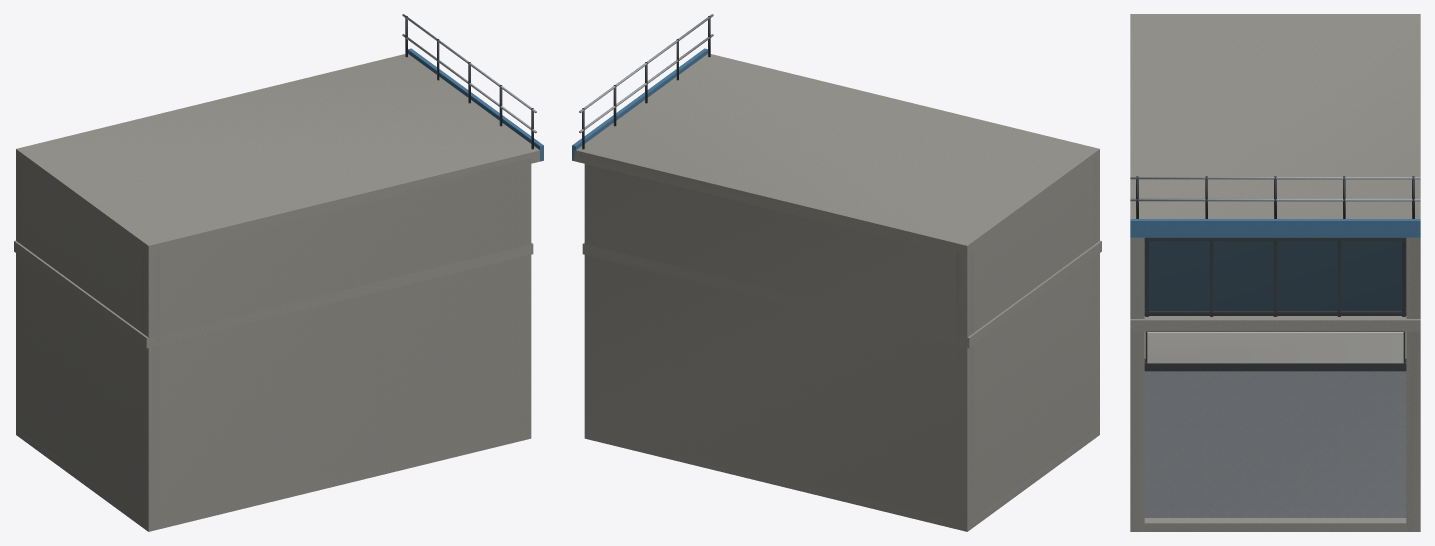
The model's file is pit-garage_far.glb.
The picture shows the model from 3 angles, left to right: view 1: azimuth 30°, elevation 25°; view 2: azimuth 150°, elevation 25°; view 3: azimuth 270°, elevation 25°; orthographic projection. The views are drawn at different scales.
Parts seen in each view (by area): view 1: concrete, paint-band, galvanised, dark-steel; view 2: concrete, paint-band, galvanised, dark-steel; view 3: concrete, galvanised, glazing, board-face, dark-steel, paint-band.
Part boxes in pixels (x1,y1,x2,y2): concrete: (14,54,539,531); paint-band: (408,48,543,161); galvanised: (402,14,536,133); dark-steel: (405,16,533,149); concrete: (573,54,1101,531); paint-band: (572,48,707,160); galvanised: (579,14,713,133); dark-steel: (582,16,710,149); concrete: (1130,14,1420,531); galvanised: (1130,177,1420,517); glazing: (1144,241,1406,310); board-face: (1147,332,1403,363); dark-steel: (1136,176,1414,371); paint-band: (1130,219,1420,237).
Size of the model in its own units: 10.38 by 8.15 by 6.
Materials: 7 (5 with a texture image).
